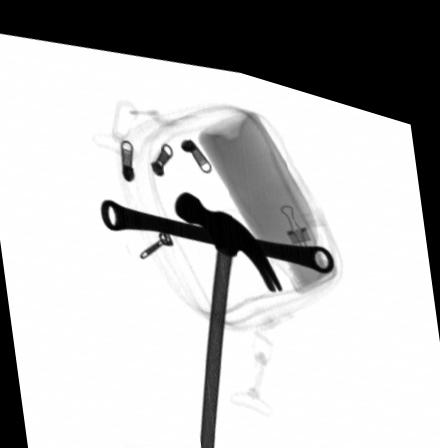Hammer: (175, 178, 286, 448)
Wrench: (101, 191, 335, 253)
